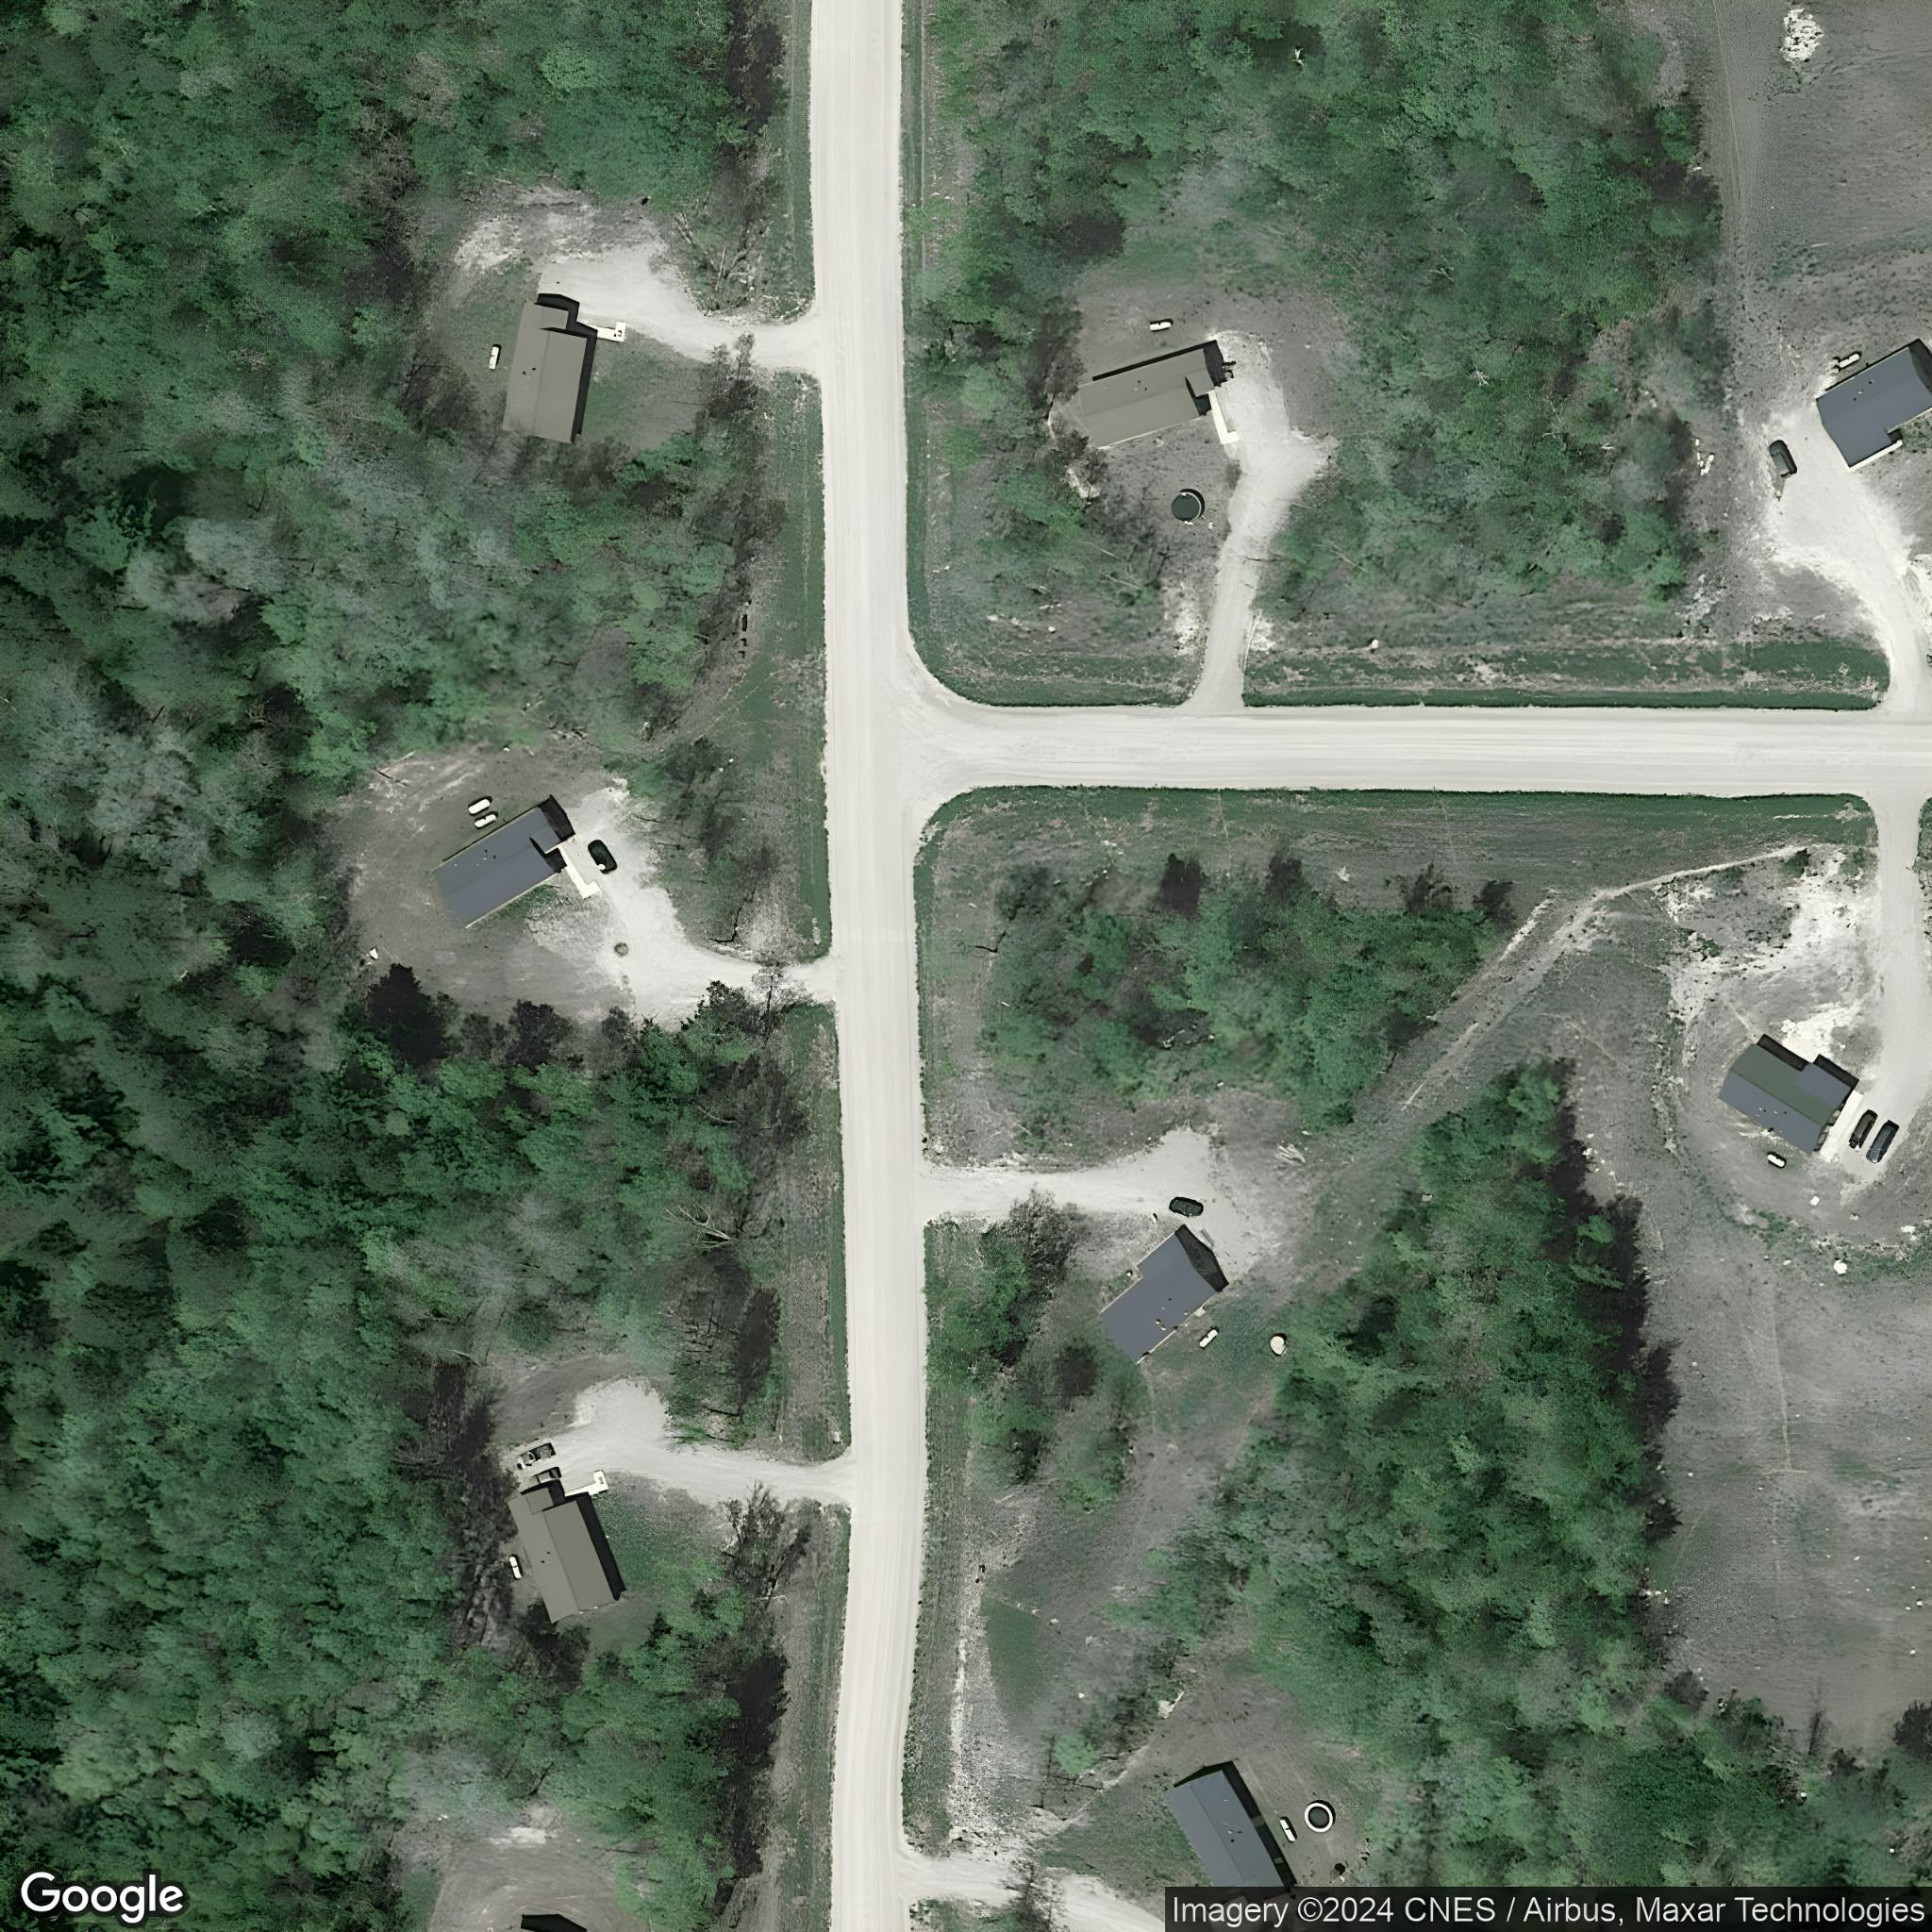House: (430, 803, 564, 932), (1716, 1040, 1858, 1157), (1097, 1231, 1217, 1368), (506, 1484, 619, 1626), (1810, 345, 1930, 471), (1164, 1766, 1288, 1886), (1077, 347, 1219, 448), (499, 303, 589, 446)
Propane: (1194, 1320, 1223, 1355), (1276, 1812, 1300, 1849), (464, 791, 495, 819), (471, 805, 504, 832), (1760, 1146, 1792, 1173), (1146, 311, 1177, 336), (504, 1550, 527, 1582), (1836, 349, 1863, 372), (485, 341, 502, 375)
